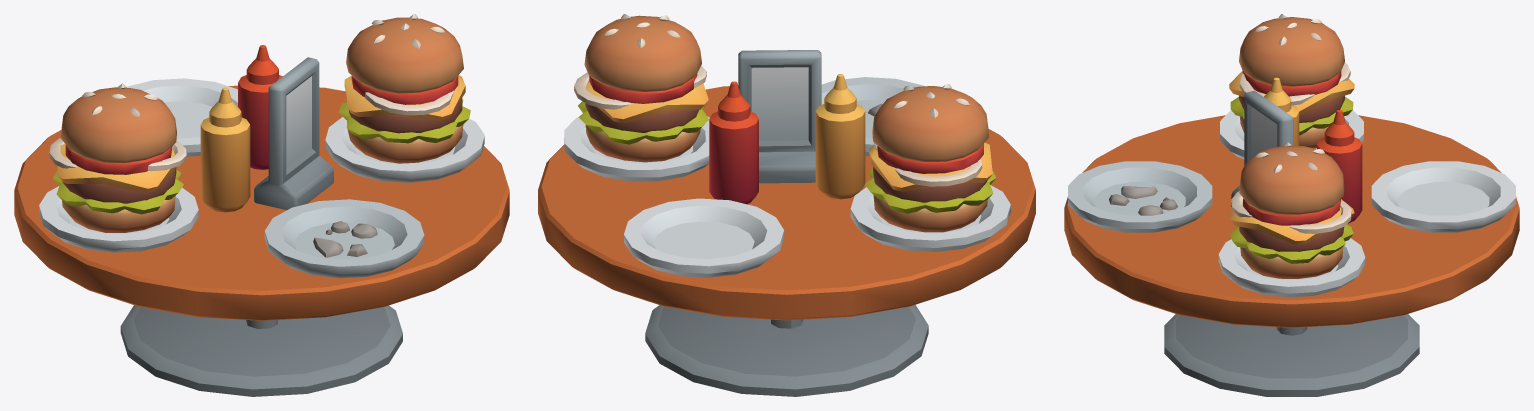
File: furn_table_round_set.glb
The picture shows the model from 3 angles, left to right: view 1: azimuth 30°, elevation 25°; view 2: azimuth 150°, elevation 25°; view 3: azimuth 270°, elevation 25°; orthographic projection. The views are drawn at different scales.
Visible parts, largest first — view 1: table_round_A_decorated; view 2: table_round_A_decorated; view 3: table_round_A_decorated.
Part boxes in pixels (bbox=[...]): table_round_A_decorated: bbox=[14, 14, 509, 396]; table_round_A_decorated: bbox=[538, 14, 1035, 396]; table_round_A_decorated: bbox=[1064, 14, 1519, 396].
Size of the model in its own units: 3 by 1.86 by 3.
Materials: 1 (1 with a texture image).
